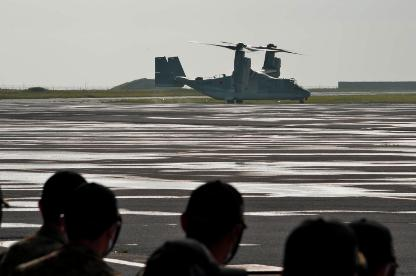Tornado: (154, 41, 310, 102)
